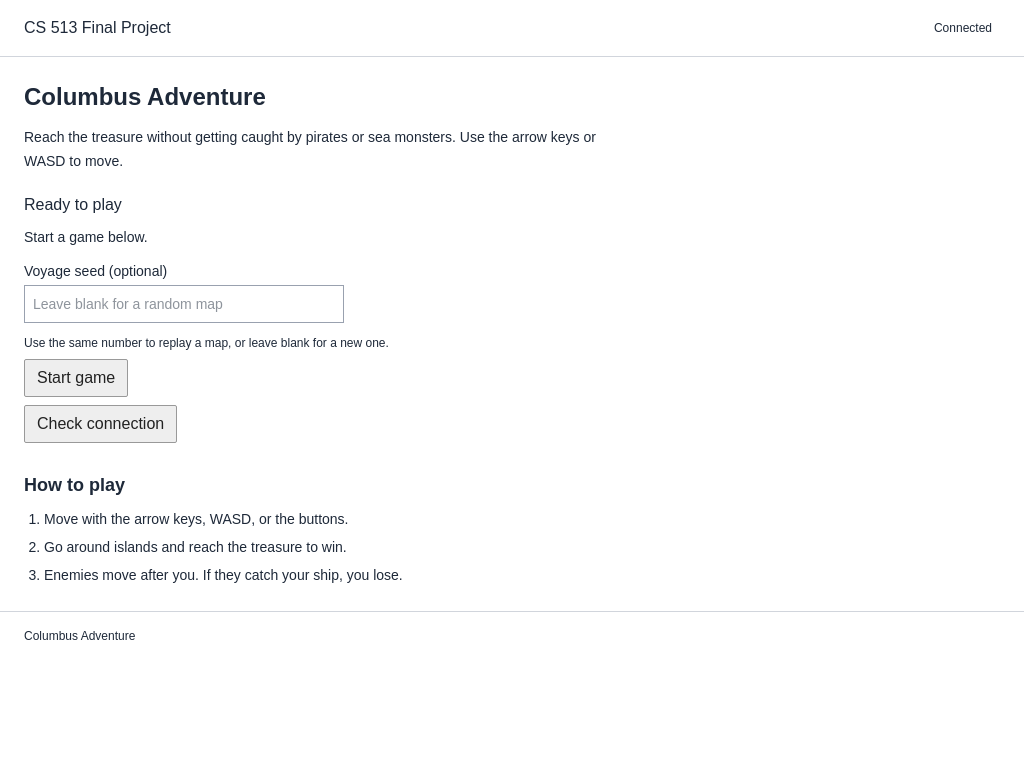
Scenario: keeps the full snapshot unchanged and explains a blocked route
Expected: the text "Connected" is shown, [934, 21, 992, 35]
Click the button "Start game": (76, 378) [24, 359, 128, 397]
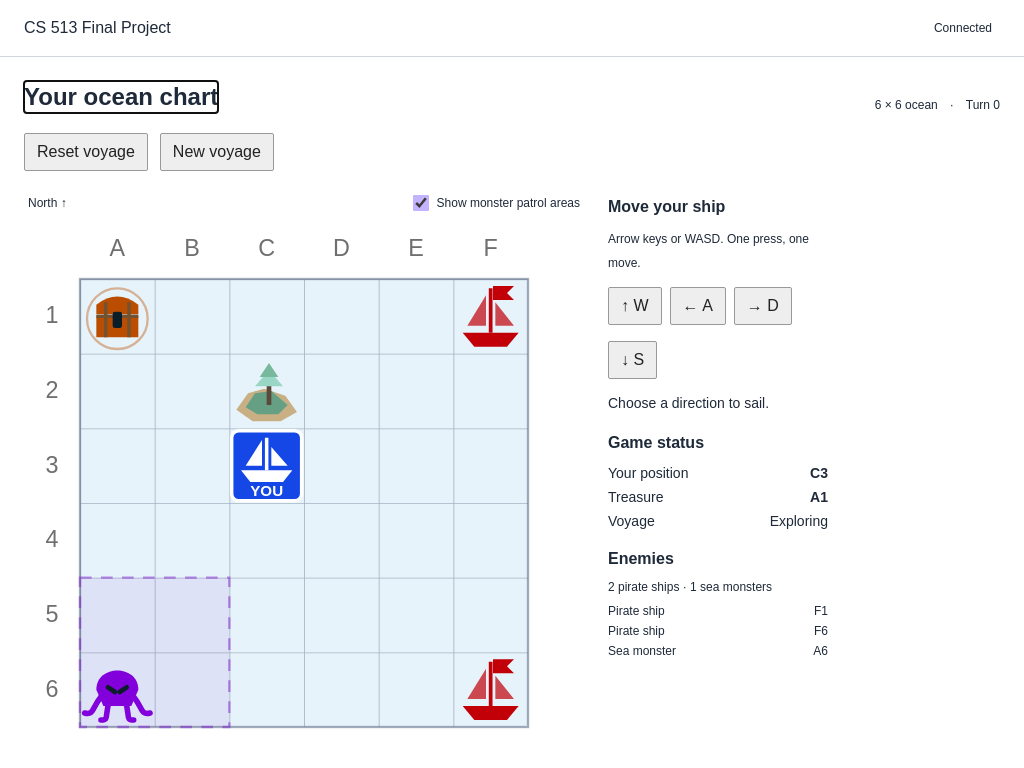
Now the heading "Your ocean chart" is shown, box [24, 81, 218, 113]
Press ArrowUp
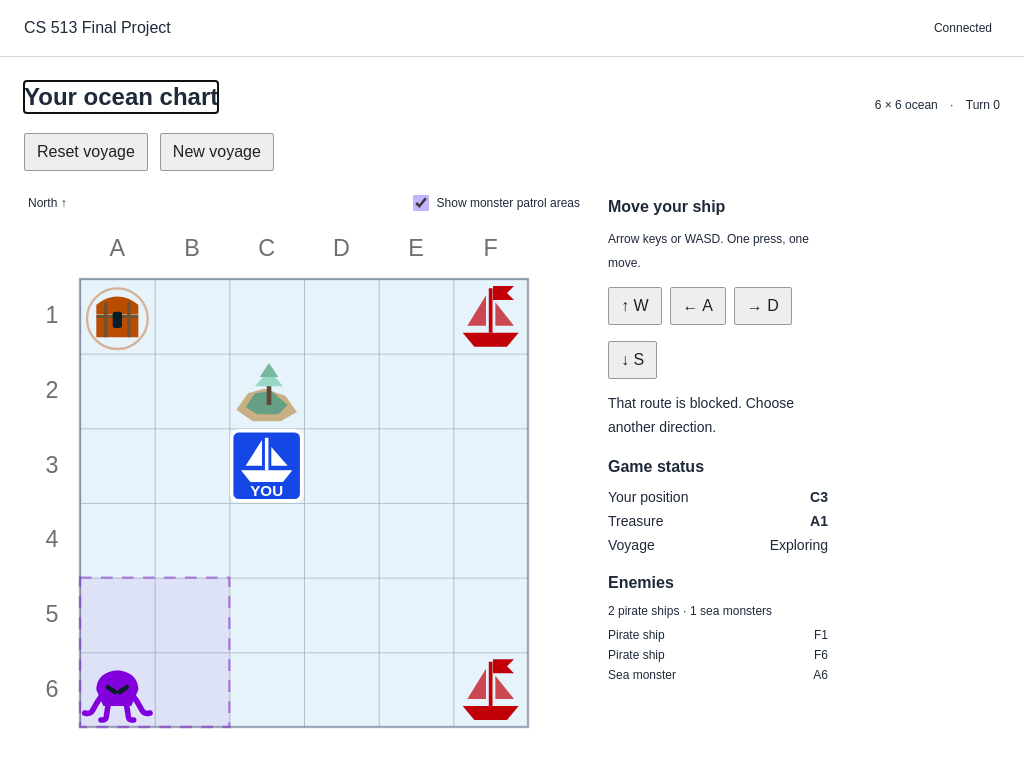
Now the text "Turn 0" is shown, box [966, 97, 1000, 113]
Now the text "That route is blocked. Choose another direction." is shown, box [608, 395, 794, 435]
